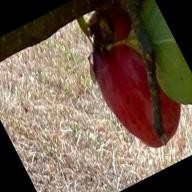Apples: (71, 3, 192, 159)
